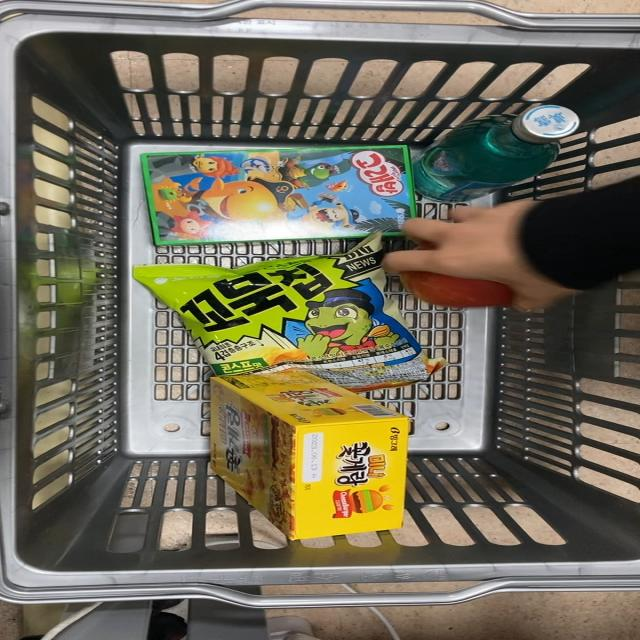ggobukchip: (134, 256, 398, 374)
goraebob: (117, 138, 416, 243)
jinro: (416, 104, 603, 190)
minicrab: (182, 376, 429, 538)
plum: (419, 257, 523, 312)
